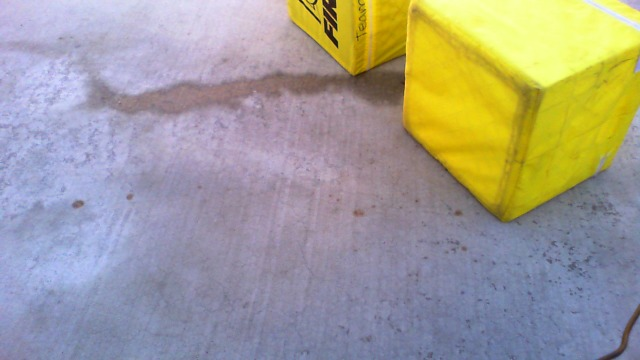cube: (401, 1, 638, 220), (285, 1, 417, 75)
